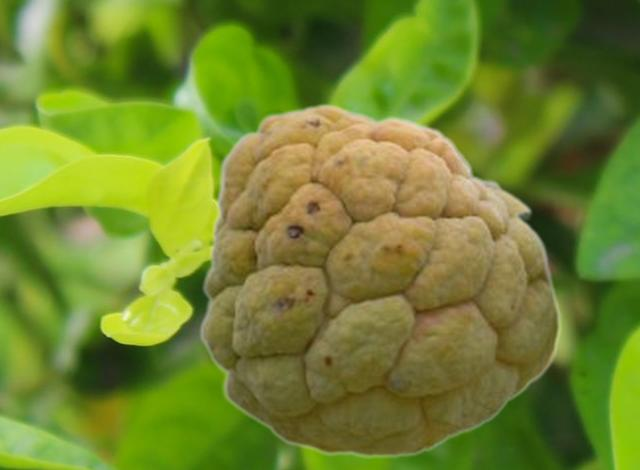atis: (198, 102, 560, 457)
